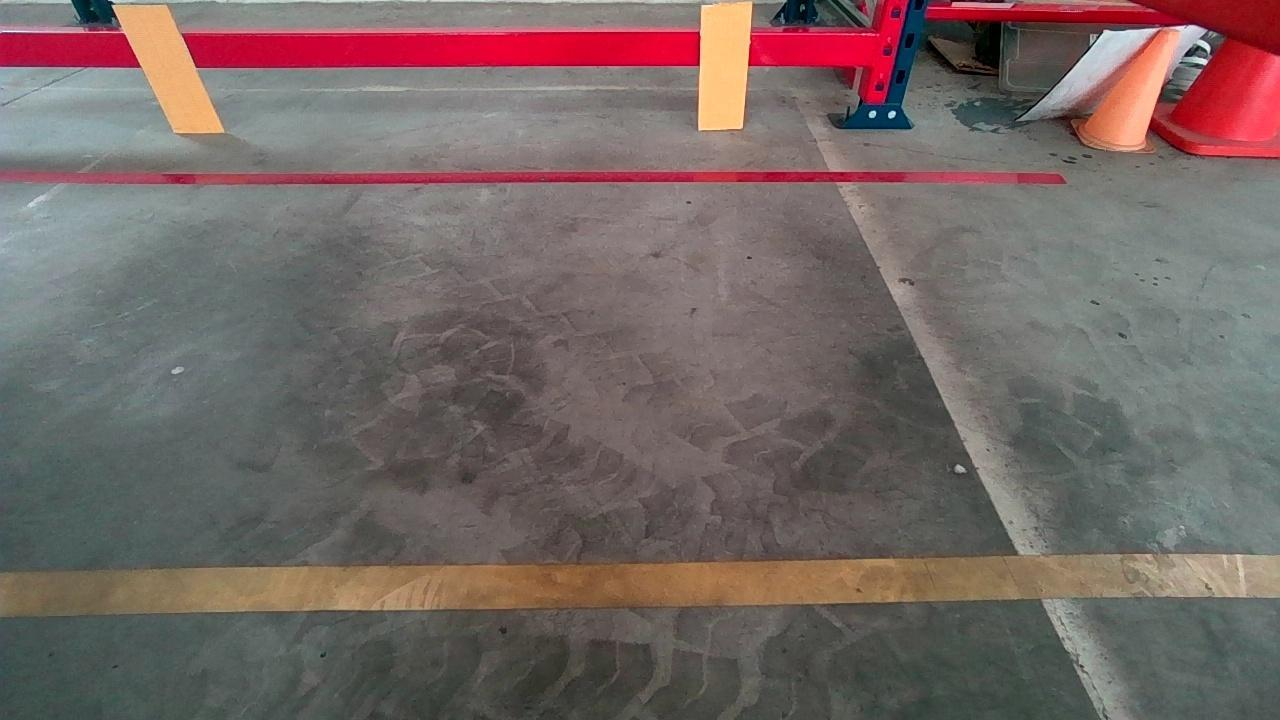orange_strip: (112, 5, 223, 131), (698, 2, 751, 129)
red_line: (0, 170, 1062, 184)
yellow_line: (0, 547, 1276, 618)
